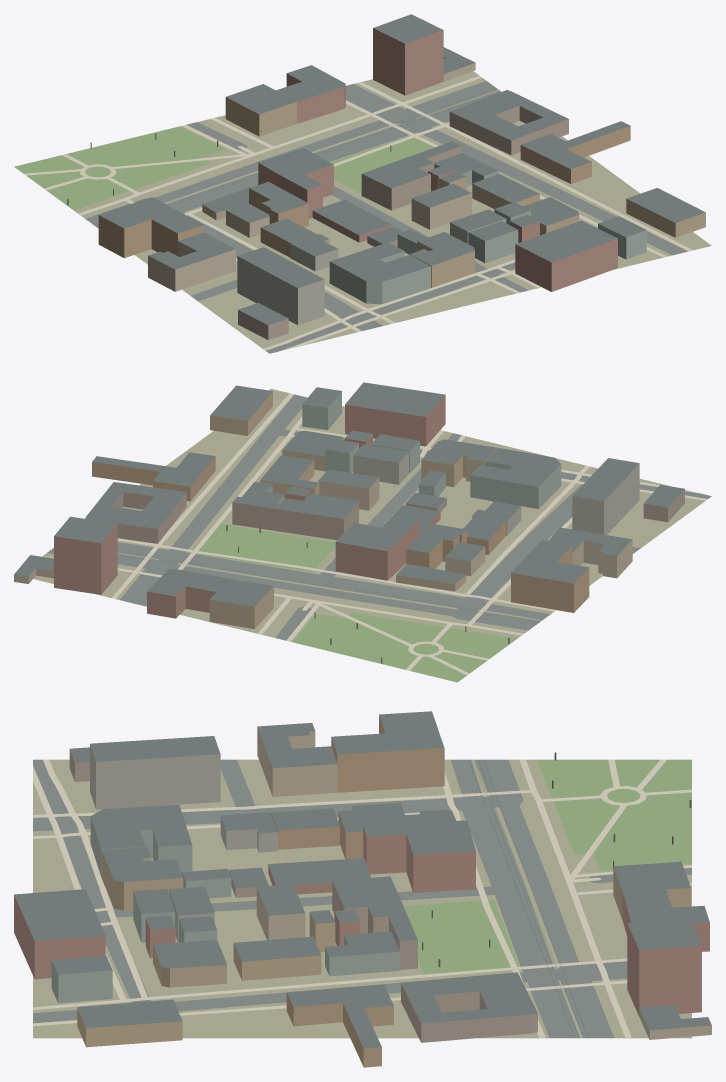
The model's file is sector-0_-6.glb.
3 renders of one model, top to bottom at view 1: azimuth 30°, elevation 25°; view 2: azimuth 150°, elevation 25°; view 3: azimuth 270°, elevation 25°, orthographic. The views are drawn at different scales.
Parts seen in each view (by area): view 1: 0:-6-facade, 0:-6-roof, 0:-6-ground, 0:-6-road, 0:-6-park, 0:-6-paving; view 2: 0:-6-facade, 0:-6-roof, 0:-6-ground, 0:-6-road, 0:-6-park, 0:-6-paving; view 3: 0:-6-facade, 0:-6-roof, 0:-6-ground, 0:-6-road, 0:-6-park, 0:-6-paving, 0:-6-rail.
Part boxes in pixels (x1,y1,x2,y2): 0:-6-facade: (98, 28, 705, 340); 0:-6-roof: (99, 14, 705, 325); 0:-6-ground: (74, 71, 711, 348); 0:-6-road: (85, 81, 687, 353); 0:-6-park: (14, 126, 438, 210); 0:-6-paving: (24, 75, 692, 350); 0:-6-facade: (14, 391, 684, 628); 0:-6-roof: (14, 382, 684, 606); 0:-6-ground: (33, 388, 704, 642); 0:-6-road: (47, 394, 711, 640); 0:-6-park: (190, 523, 516, 682); 0:-6-paving: (42, 393, 707, 675); 0:-6-facade: (14, 715, 711, 1067); 0:-6-roof: (14, 711, 711, 1048); 0:-6-ground: (33, 759, 691, 1038); 0:-6-road: (33, 759, 691, 1037); 0:-6-park: (403, 759, 691, 974); 0:-6-paving: (33, 759, 691, 1037); 0:-6-rail: (469, 760, 588, 1037).
Size of the model in its own units: 229 by 22.4 by 212.
